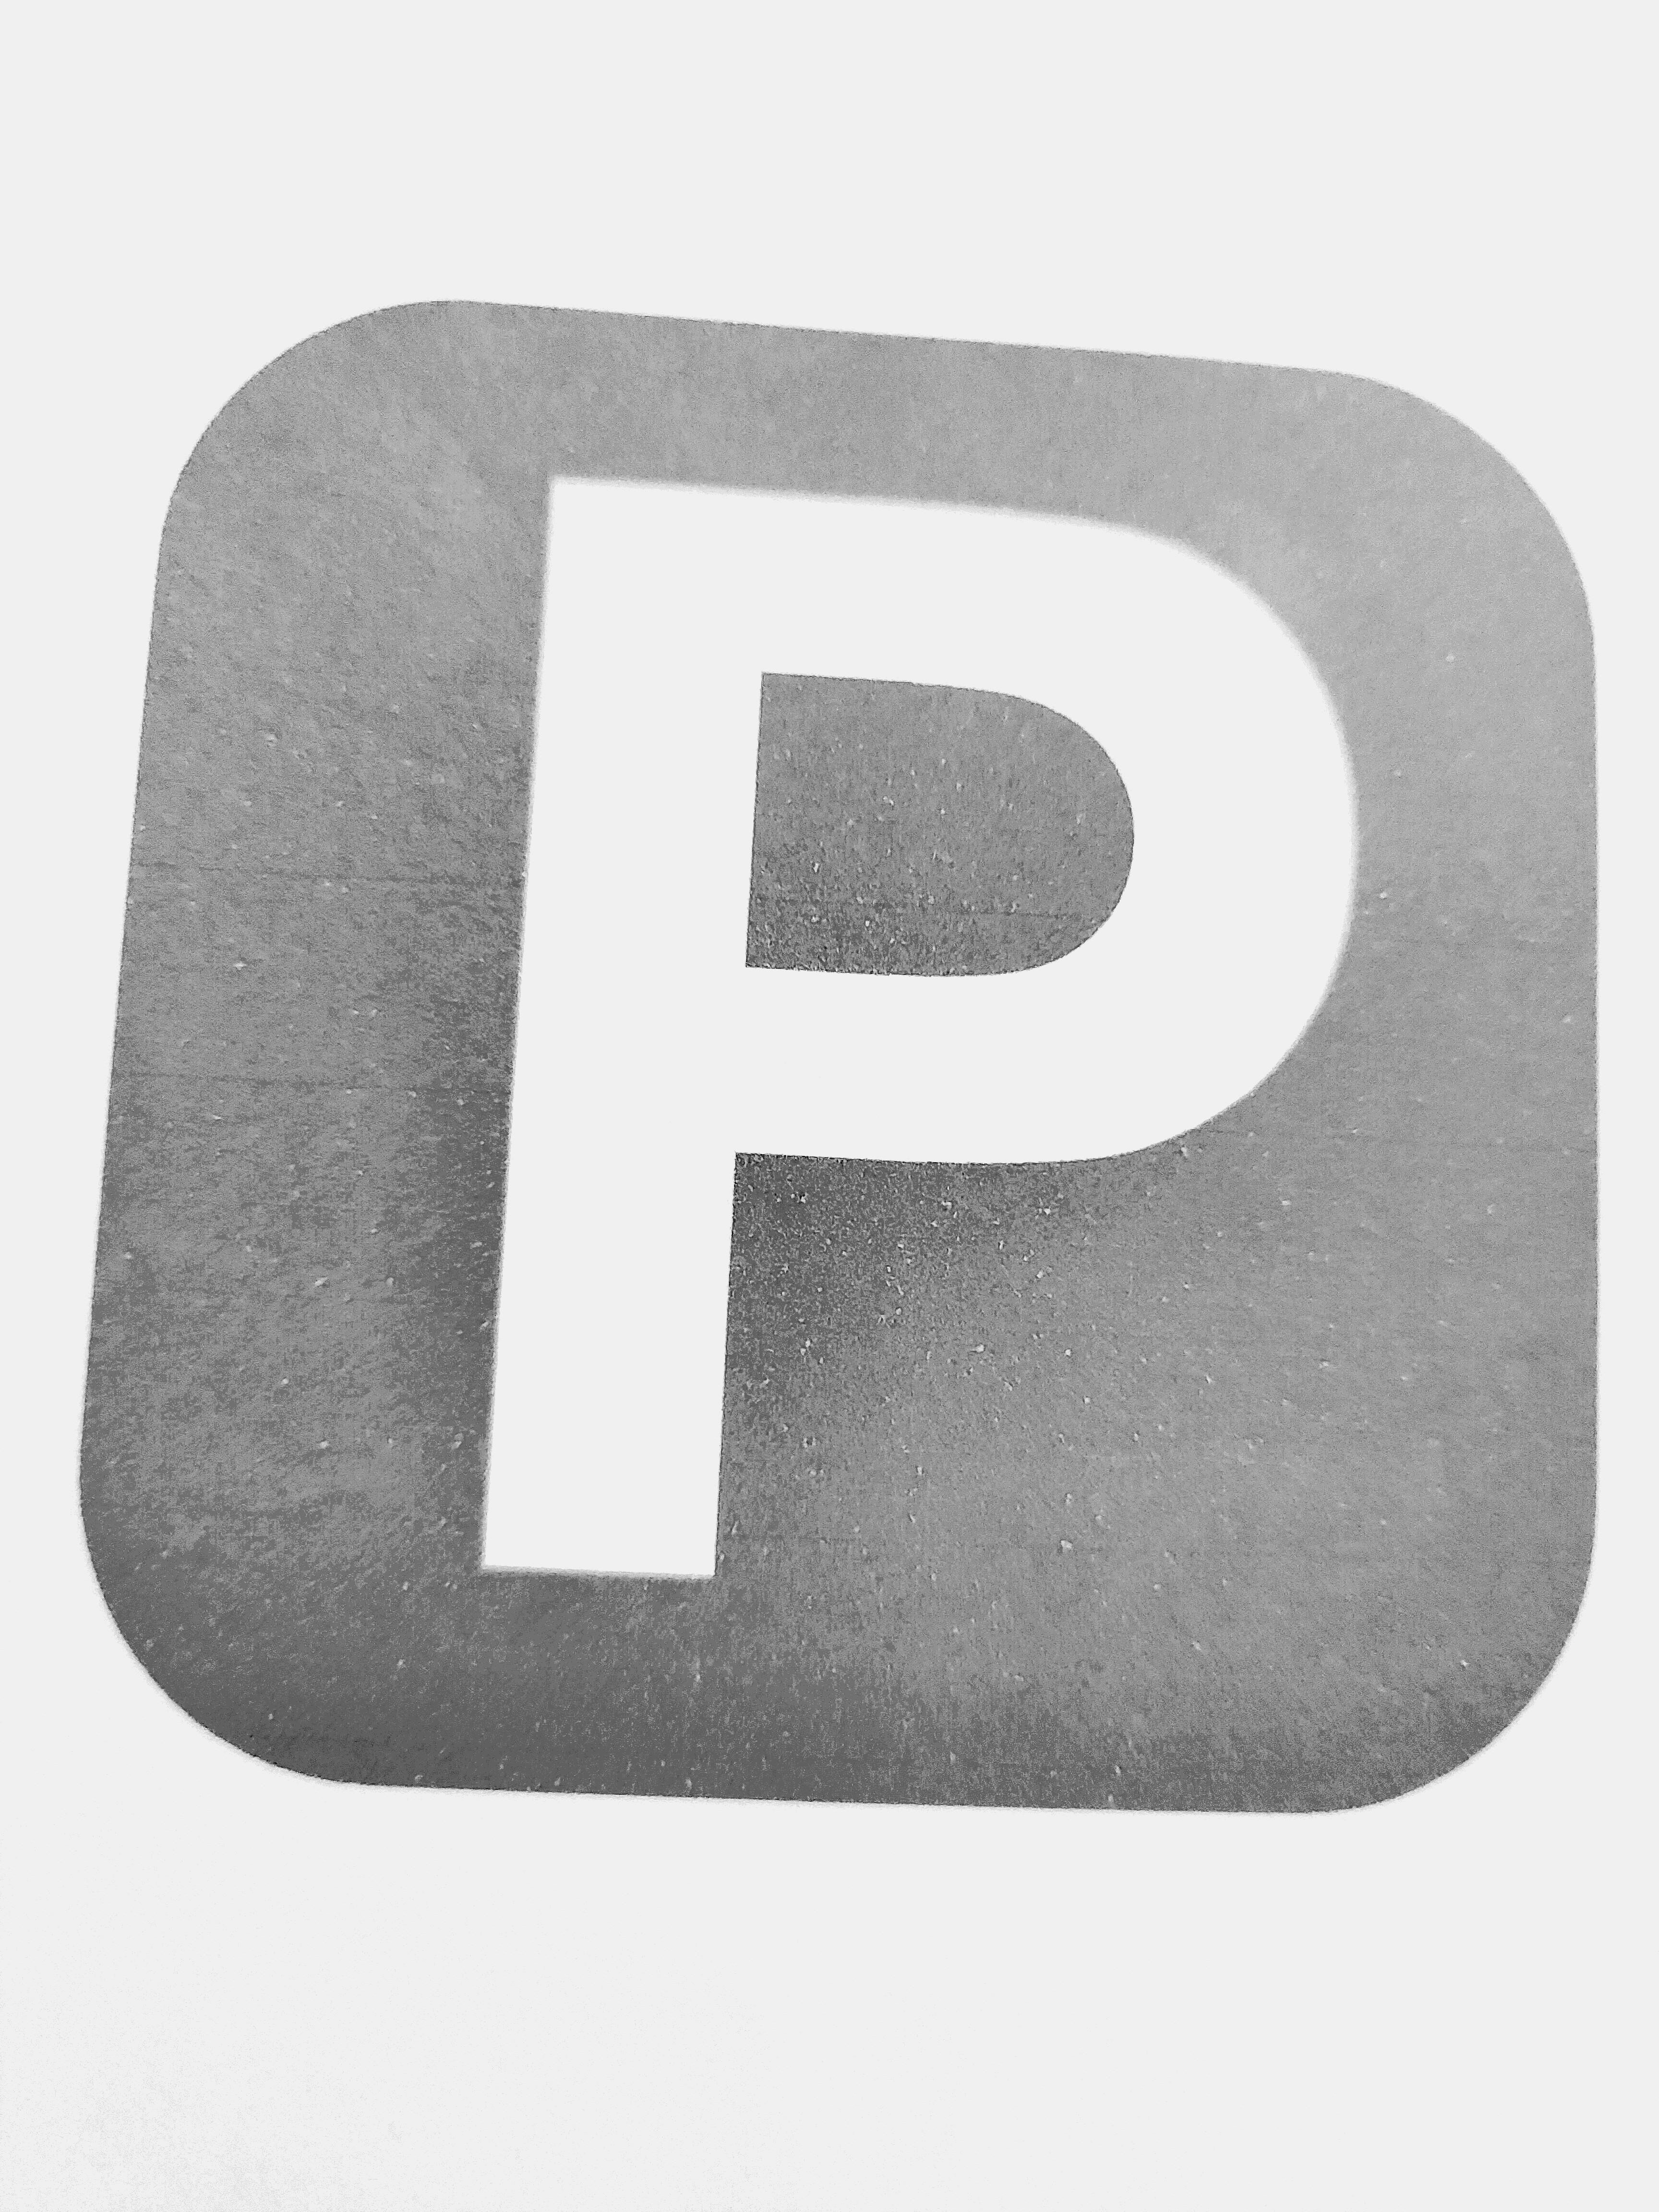parking: (82, 307, 1598, 1824)
